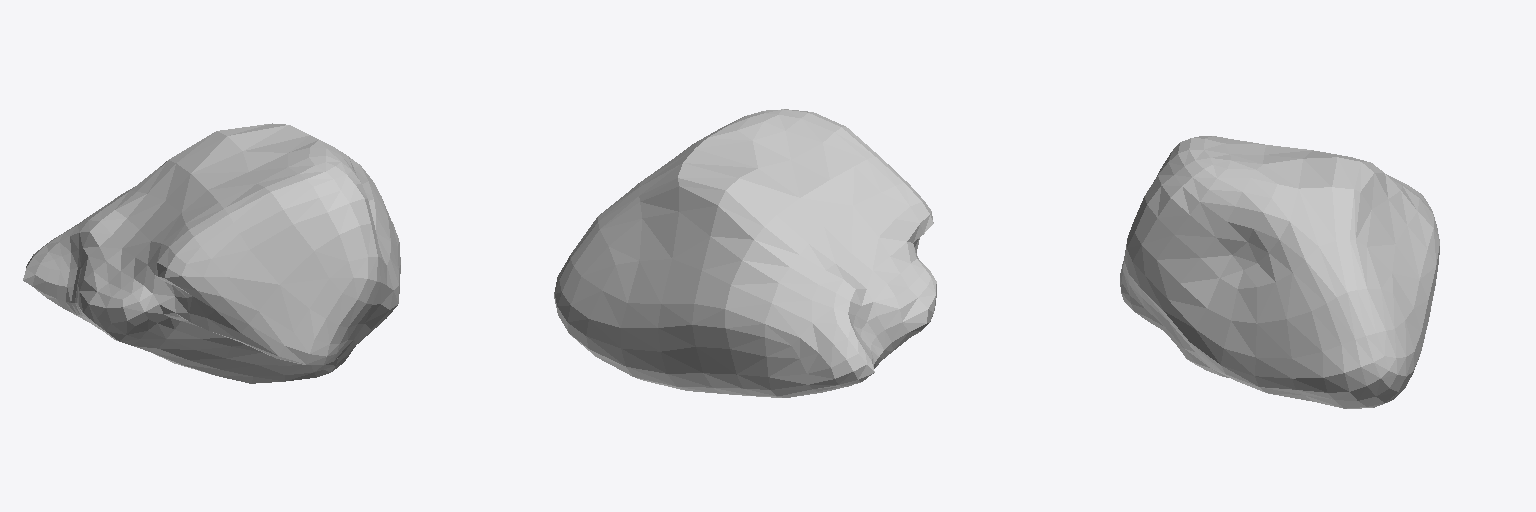
The model's file is stone3.obj.
The picture shows the model from 3 angles: view 1: azimuth 30°, elevation 25°; view 2: azimuth 150°, elevation 25°; view 3: azimuth 270°, elevation 25°; orthographic projection.
Parts seen in each view (by area): view 1: stone2; view 2: stone2; view 3: stone2.
Boxes of the visible parts, box(x1,y1,x2,y2) form: stone2: box(23, 123, 400, 383); stone2: box(554, 109, 936, 397); stone2: box(1120, 136, 1439, 408).
Size of the model in its own units: 1.96 by 1.21 by 1.6.